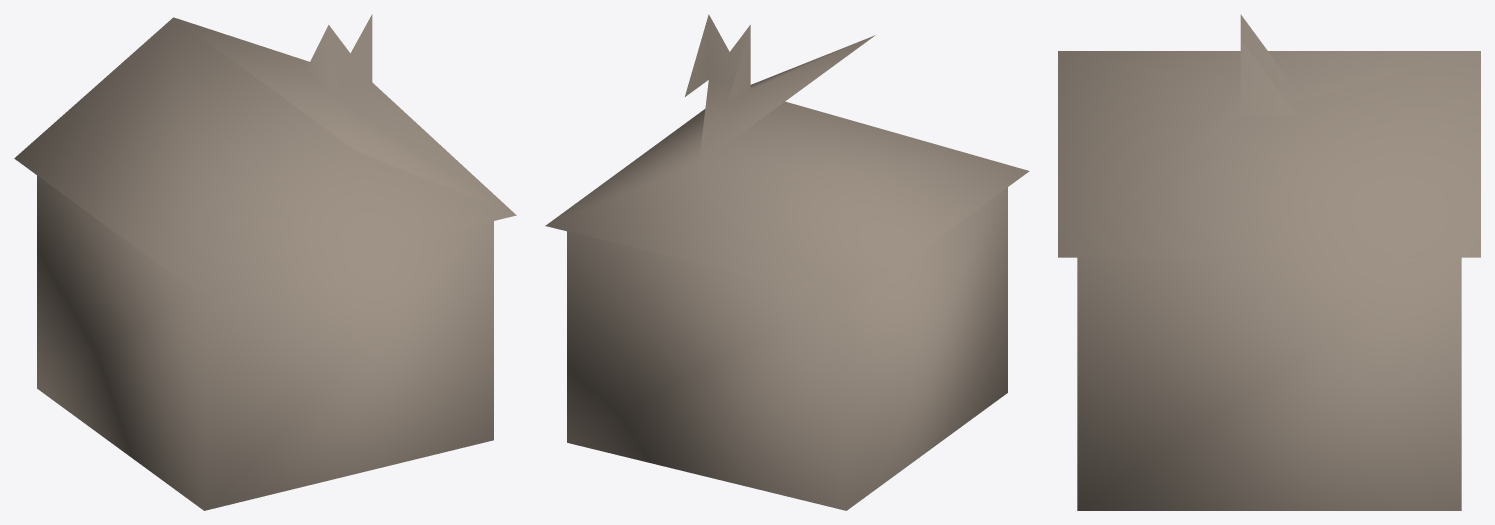
Rendered from stonecutter.obj.
3 renders of one model, left to right at view 1: azimuth 30°, elevation 25°; view 2: azimuth 150°, elevation 25°; view 3: azimuth 270°, elevation 25°, orthographic. The views are drawn at different scales.
Parts seen in each view (by area): view 1: building; view 2: building; view 3: building.
Part boxes in pixels (left/top/right/bottom): building: left=14, top=14, right=516, bottom=510; building: left=545, top=14, right=1029, bottom=510; building: left=1058, top=14, right=1480, bottom=510.
Size of the model in its own units: 2.2 by 2.55 by 2.2.
